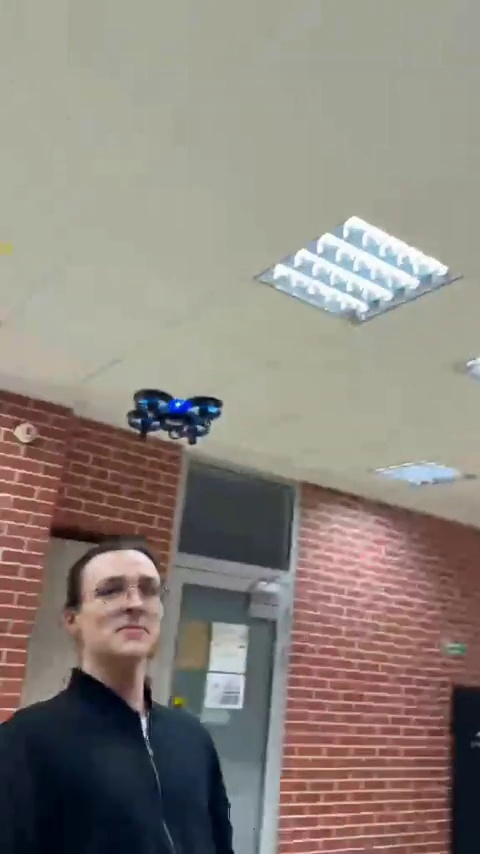drone: (122, 387, 219, 440)
no vest: (2, 539, 233, 848)
